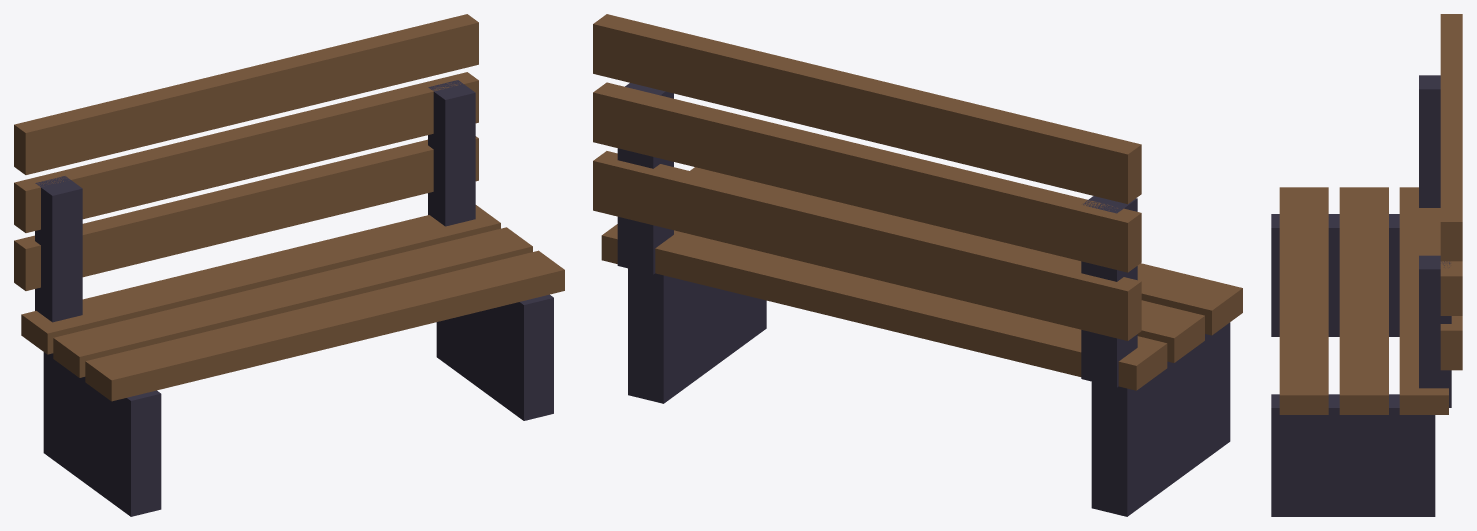
The model's file is bench.obj.
The picture shows the model from 3 angles, left to right: view 1: azimuth 30°, elevation 25°; view 2: azimuth 150°, elevation 25°; view 3: azimuth 270°, elevation 25°; orthographic projection. The views are drawn at different scales.
Visible parts, largest first — view 1: bench; view 2: bench; view 3: bench.
Boxes of the visible parts, box(x1,y1,x2,y2) form: bench: box(14, 14, 564, 516); bench: box(593, 14, 1242, 516); bench: box(1271, 14, 1462, 516).
Size of the model in its own units: 1.8 by 1.22 by 0.7.
